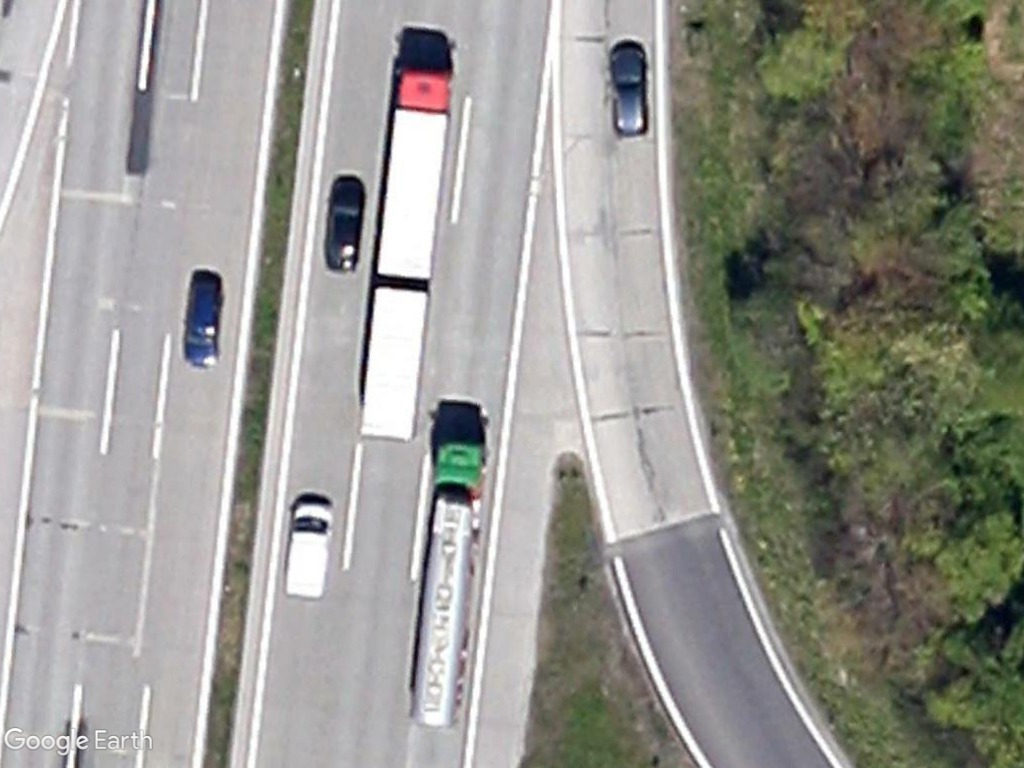car: (604, 39, 655, 143), (319, 172, 368, 280), (176, 273, 227, 376)
truck: (372, 59, 464, 290)
van: (276, 493, 340, 604)
